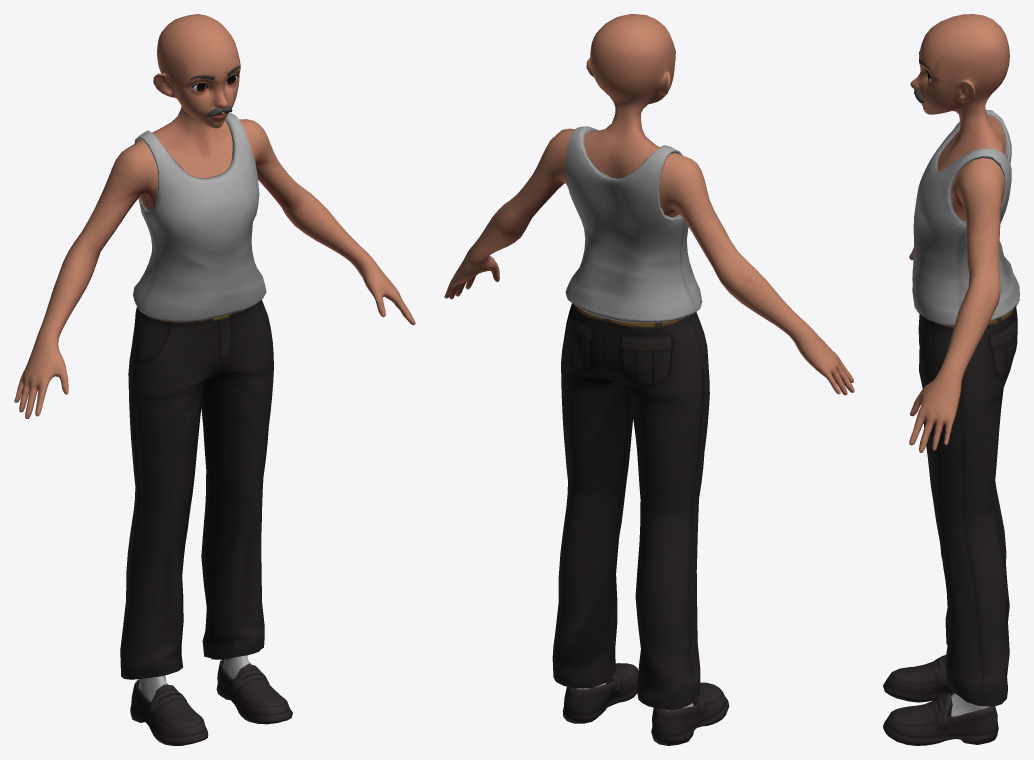
File: Brothers_Mesh.obj
The picture shows the model from 3 angles, left to right: view 1: azimuth 30°, elevation 25°; view 2: azimuth 150°, elevation 25°; view 3: azimuth 270°, elevation 25°; orthographic projection. The views are drawn at different scales.
Visible parts, largest first — view 1: Brothers_Mesh_0; view 2: Brothers_Mesh_0; view 3: Brothers_Mesh_0.
Part boxes in pixels (x1,y1,x2,y2): Brothers_Mesh_0: [14, 14, 415, 745]; Brothers_Mesh_0: [444, 14, 854, 745]; Brothers_Mesh_0: [883, 14, 1019, 745].
Size of the model in its own units: 1.06 by 1.79 by 0.3176.
1 material, 1 textured.
